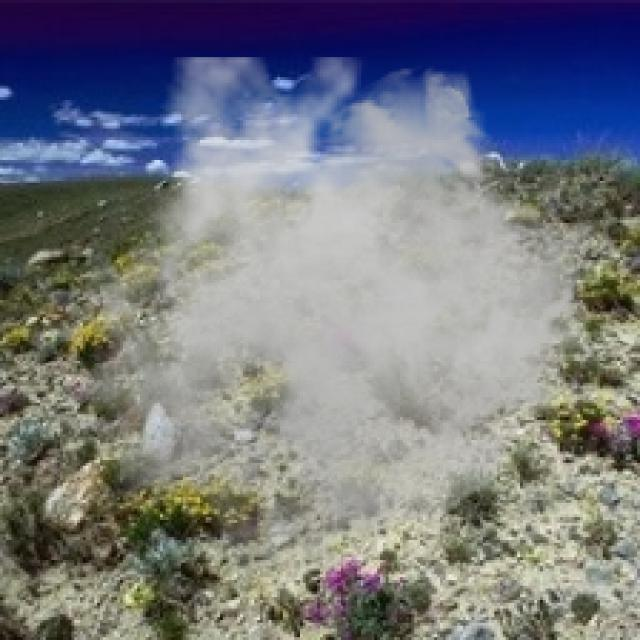smoke: (74, 57, 600, 580)
